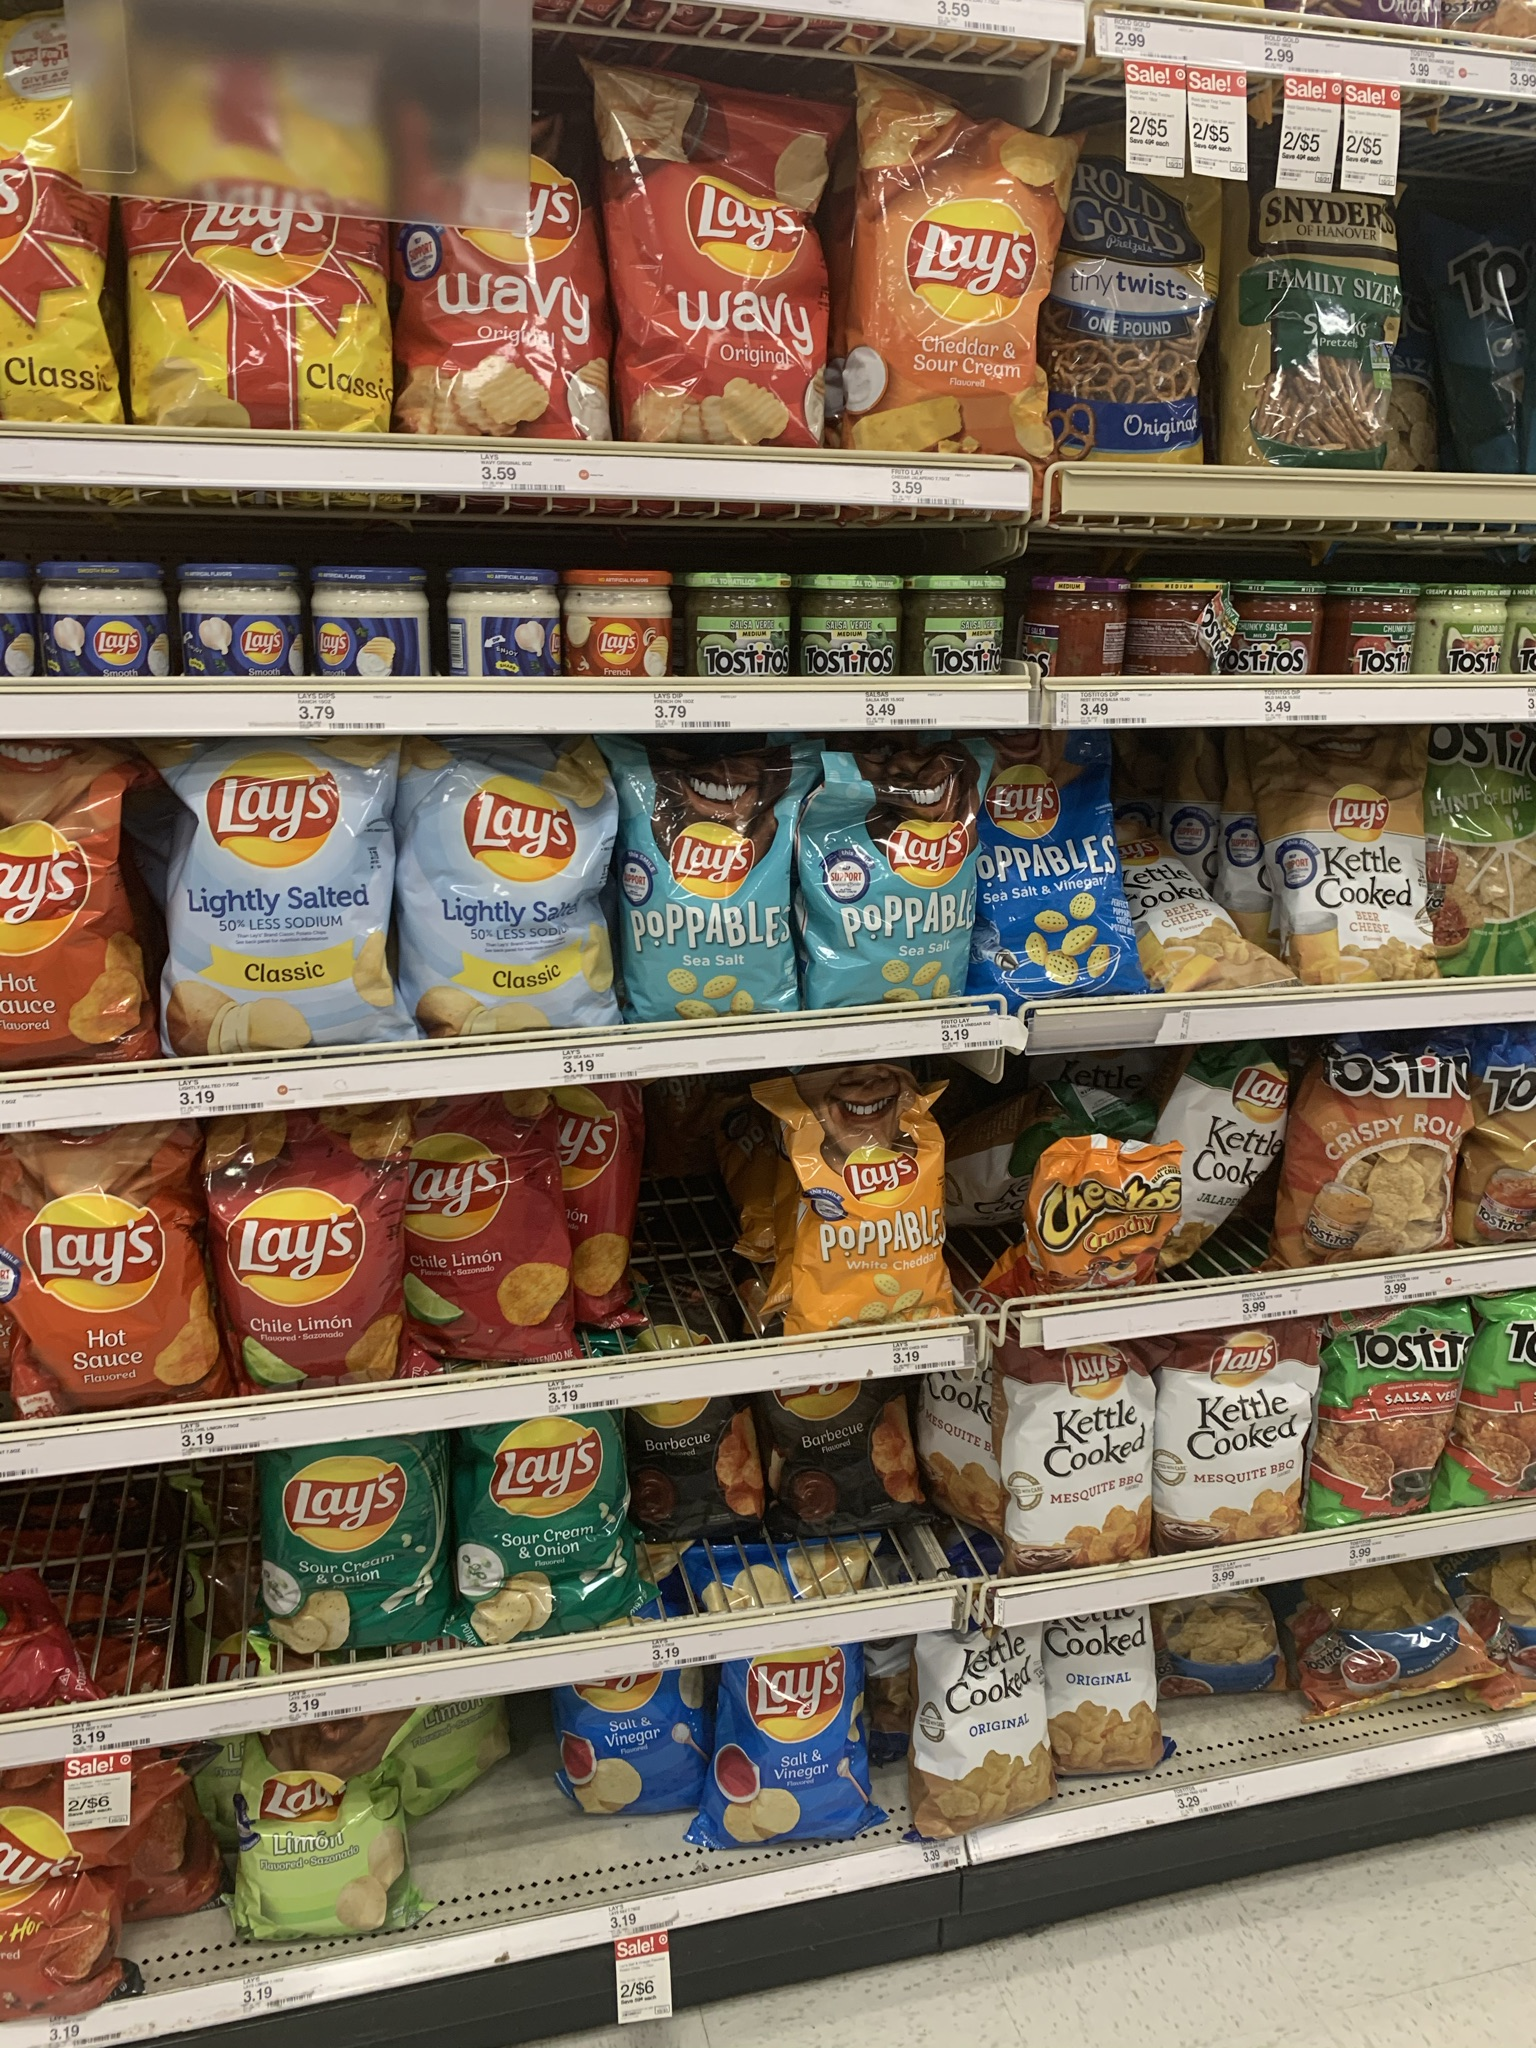chip: (144, 97, 387, 419), (618, 85, 836, 439), (150, 735, 390, 1055), (865, 73, 1054, 464), (402, 742, 620, 1027), (407, 113, 584, 434), (210, 1113, 405, 1393), (3, 1138, 202, 1401), (807, 743, 992, 1014), (620, 743, 797, 1026), (779, 1074, 970, 1334), (223, 1701, 428, 1934), (2, 739, 140, 1072), (394, 1108, 571, 1350), (718, 1574, 866, 1853), (1263, 731, 1428, 980), (2, 1766, 171, 2006), (973, 734, 1125, 1001), (463, 1379, 615, 1642), (257, 1422, 432, 1646), (1300, 1039, 1460, 1261), (1326, 1308, 1441, 1514), (1025, 1143, 1173, 1298), (573, 1646, 699, 1809)
